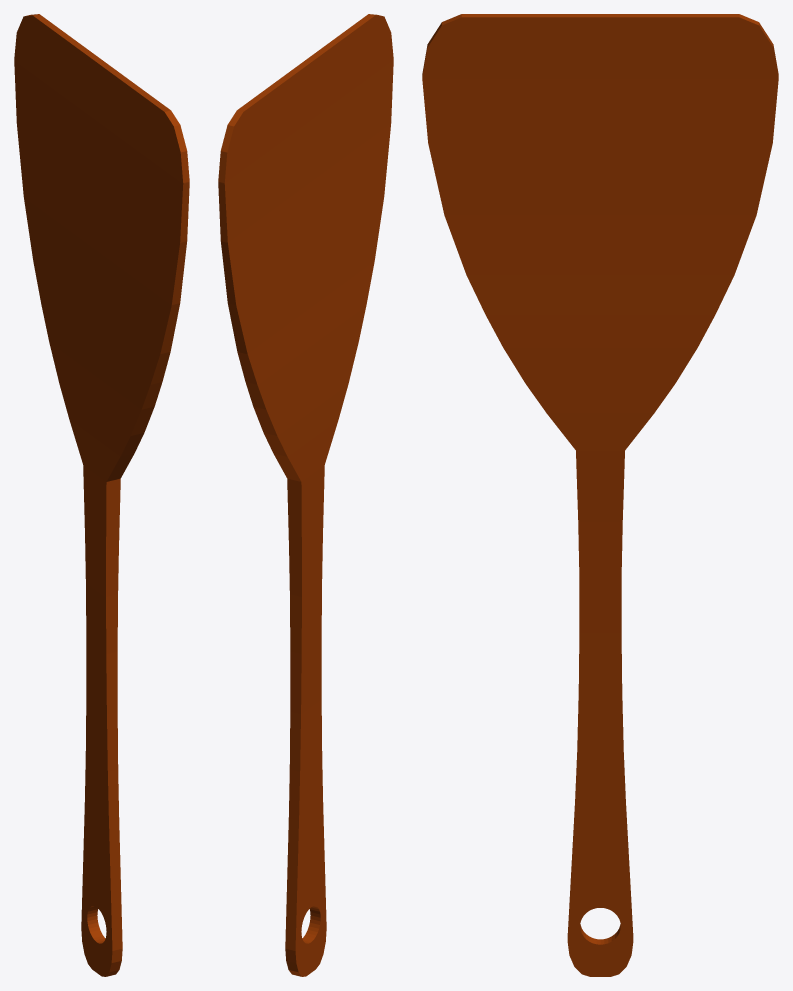
Rendered from ustensilwood_001.fbx.
The picture shows the model from 3 angles, left to right: view 1: azimuth 30°, elevation 25°; view 2: azimuth 150°, elevation 25°; view 3: azimuth 270°, elevation 25°; orthographic projection. The views are drawn at different scales.
Parts seen in each view (by area): view 1: Cube.017; view 2: Cube.017; view 3: Cube.017.
Boxes of the visible parts, x1,y1,x2,y2 form: Cube.017: [14, 14, 189, 976]; Cube.017: [218, 14, 393, 976]; Cube.017: [422, 14, 778, 976].
Size of the model in its own units: 3.41 by 207 by 69.82.
